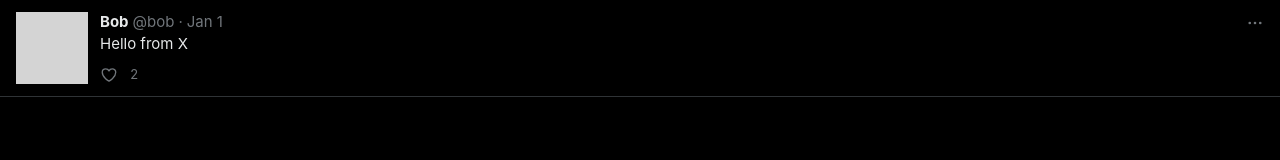
Test: TweetCard › offers Follow on someone else's tweet and follows optimistically
Step 1. Click the button named "More" → (1255, 23), box [1238,6,1272,40]
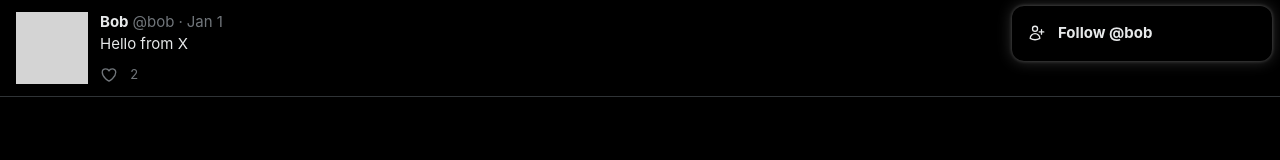
Step 2. Click the button "Follow @bob" → (1142, 33), box [1012,10,1272,56]
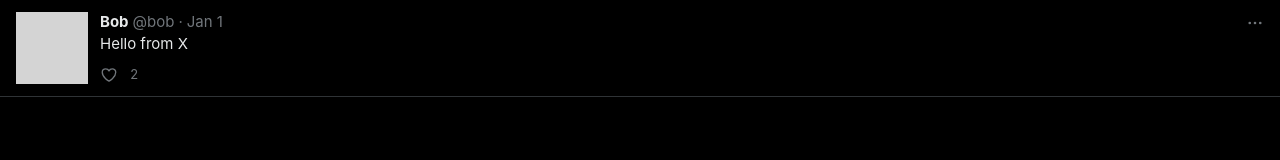
Step 3. Click the button named "More" → (1255, 23), box [1238,6,1272,40]
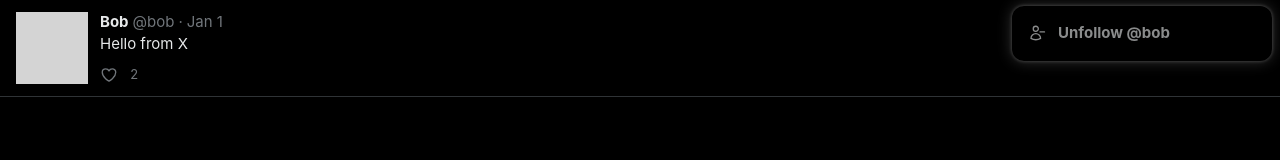
Check: the button "Unfollow @bob" is shown, box [1012,10,1272,56]
